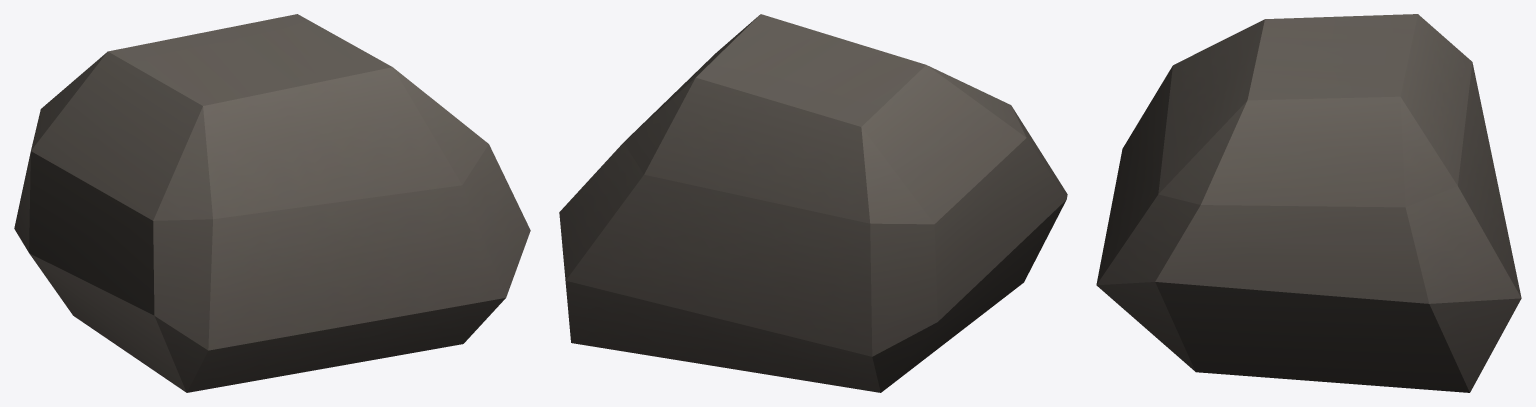
Rendered from Stone_Squarish_A.fbx.
3 views of the same model, side by side, from view 1: azimuth 30°, elevation 25°; view 2: azimuth 150°, elevation 25°; view 3: azimuth 270°, elevation 25° (orthographic). The views are drawn at different scales.
Parts seen in each view (by area): view 1: Stone_Squarish_A; view 2: Stone_Squarish_A; view 3: Stone_Squarish_A.
Part boxes in pixels (x1=…): Stone_Squarish_A: x1=14, y1=14, x2=530, y2=392; Stone_Squarish_A: x1=559, y1=14, x2=1067, y2=392; Stone_Squarish_A: x1=1096, y1=14, x2=1521, y2=392.
Bounding box in the file's own units: 24.34 × 16.3 × 24.46.
